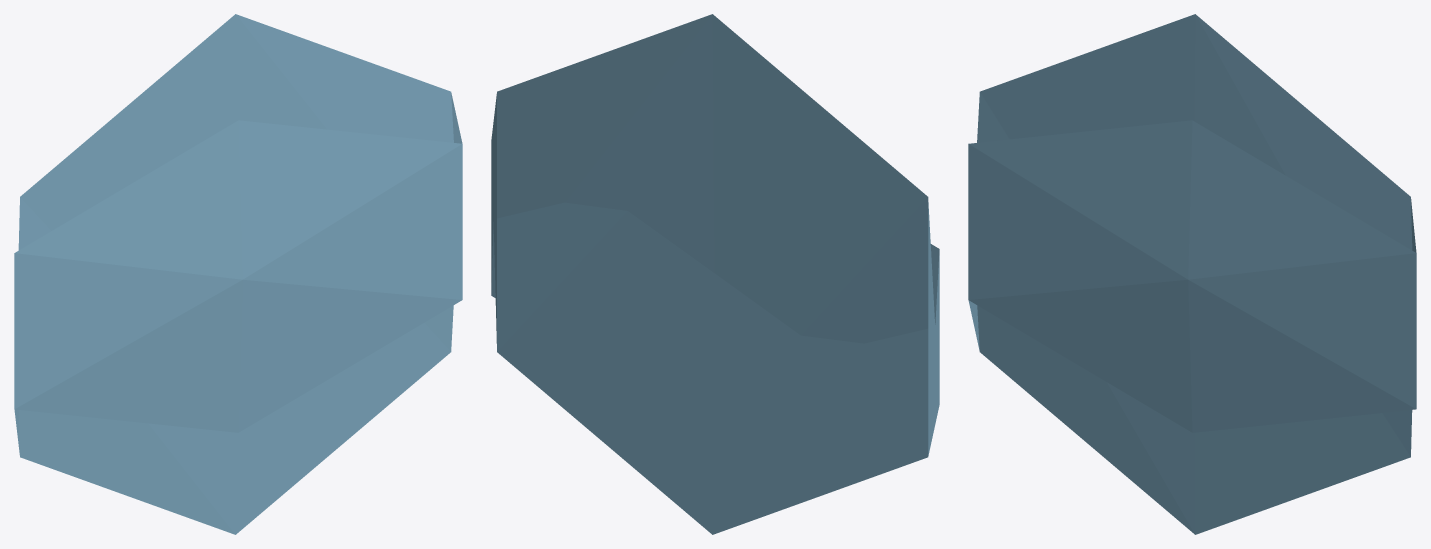
Rendered from water.glb.
The picture shows the model from 3 angles, left to right: view 1: azimuth 30°, elevation 25°; view 2: azimuth 150°, elevation 25°; view 3: azimuth 330°, elevation 25°; orthographic projection.
Visible parts, largest first — view 1: WaterTerrain; view 2: WaterTerrain; view 3: WaterTerrain.
Part boxes in pixels (x1,y1,x2,y2): WaterTerrain: (14, 14, 462, 534); WaterTerrain: (491, 14, 939, 534); WaterTerrain: (968, 14, 1416, 534).
Size of the model in its own units: 1.8 by 2 by 0.05.
